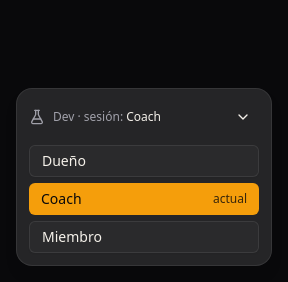
Test: DevRoleSwitcher - cambio de usuario › con /auth/token en 400 muestra el mensaje con make seed-dev y deja la sesión previa intacta
Click the button "Miembro". click: (144,237)
box: [29,221,259,253]
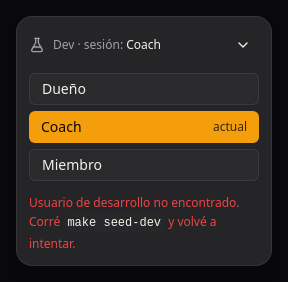
Expected: the button "Miembro" is enabled, [29,148,259,180]
Expected: the message shows "Usuario de desarrollo no encontrado", [29,194,240,210]
Expected: the message shows "make seed-dev", [67,216,161,230]
